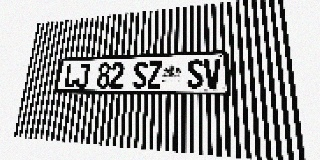2: (109, 62, 125, 88)
8: (96, 63, 111, 88)
J: (75, 63, 90, 88)
L: (63, 64, 78, 88)
S: (187, 59, 204, 89), (132, 61, 148, 88)
V: (204, 58, 222, 89)
Z: (147, 61, 162, 88)
